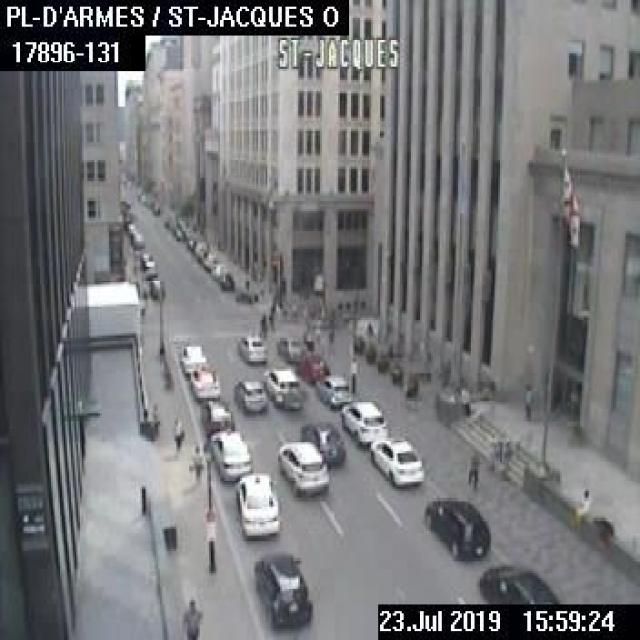pedestrian: (180, 596, 202, 638), (592, 516, 612, 549), (187, 442, 202, 482), (576, 487, 593, 520), (466, 451, 478, 489), (520, 384, 533, 418), (173, 418, 183, 456), (460, 384, 471, 414), (256, 311, 268, 338), (149, 402, 159, 434), (267, 306, 275, 333)
vehicle: (253, 546, 311, 626), (420, 493, 491, 558), (476, 558, 556, 602), (276, 439, 328, 492), (236, 472, 278, 536), (370, 436, 422, 484), (210, 428, 250, 479), (341, 399, 387, 442), (302, 420, 345, 464), (262, 365, 302, 409), (315, 372, 350, 406), (200, 396, 233, 432), (294, 349, 329, 382), (232, 377, 264, 412), (189, 362, 218, 398), (179, 343, 206, 374), (277, 335, 306, 361), (236, 333, 262, 360), (147, 277, 163, 297), (194, 240, 208, 258), (218, 270, 232, 288), (202, 251, 216, 268), (142, 258, 155, 276), (209, 263, 225, 277), (130, 232, 143, 248), (139, 250, 152, 266)
